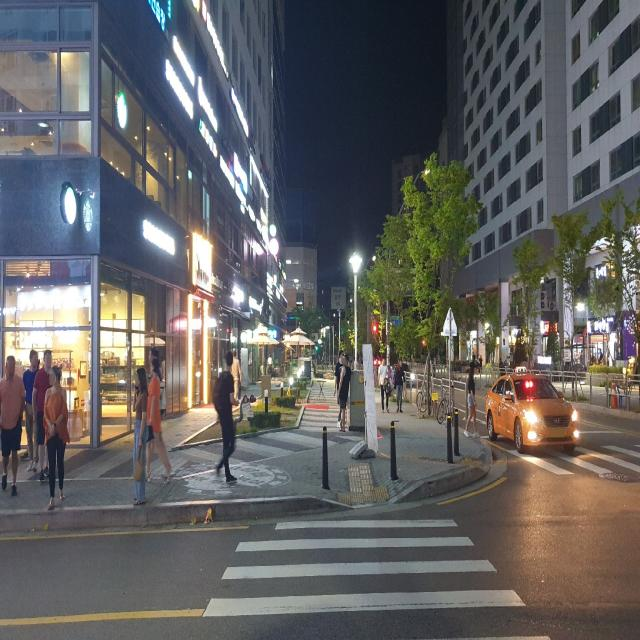횡단보도: (200, 515, 554, 640), (506, 440, 640, 483)
